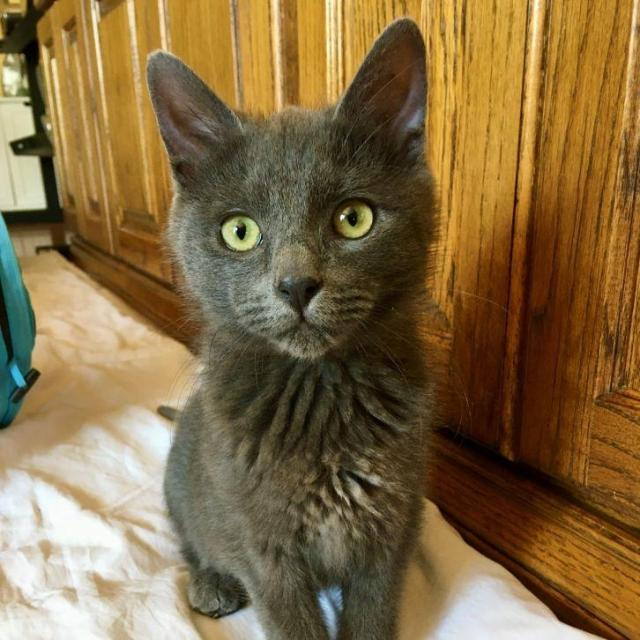russian_blue_cat: (144, 15, 450, 372)
